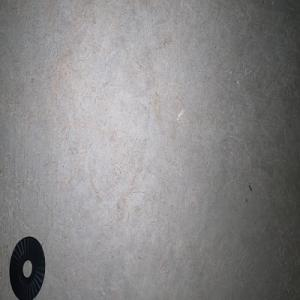Washer: (9, 236, 45, 300)
